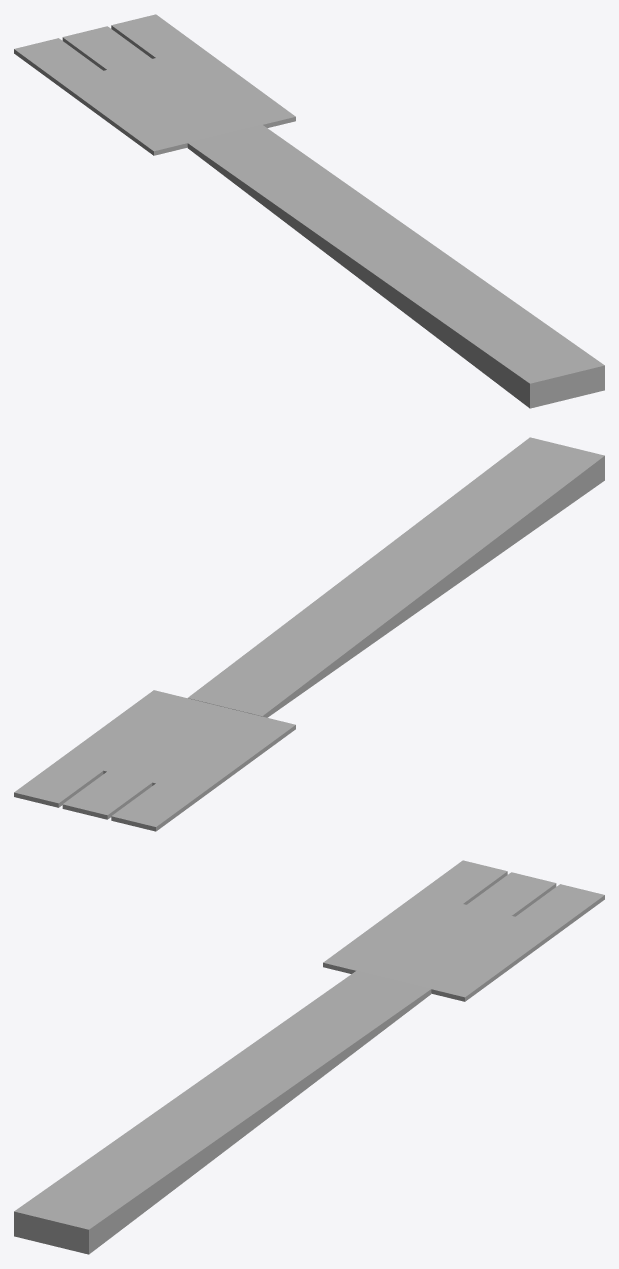
File: Itr_Obj_Fork_02.FBX
3 renders of one model, top to bottom at view 1: azimuth 30°, elevation 25°; view 2: azimuth 150°, elevation 25°; view 3: azimuth 330°, elevation 25°, orthographic.
Parts seen in each view (by area): view 1: Itr_Obj_Fork_02; view 2: Itr_Obj_Fork_02; view 3: Itr_Obj_Fork_02.
Part boxes in pixels (x1,y1,x2,y2): Itr_Obj_Fork_02: [14, 14, 604, 408]; Itr_Obj_Fork_02: [14, 437, 604, 831]; Itr_Obj_Fork_02: [14, 860, 604, 1254].
Bounding box in the file's own units: 0.8283 × 0.1387 × 4.87.
